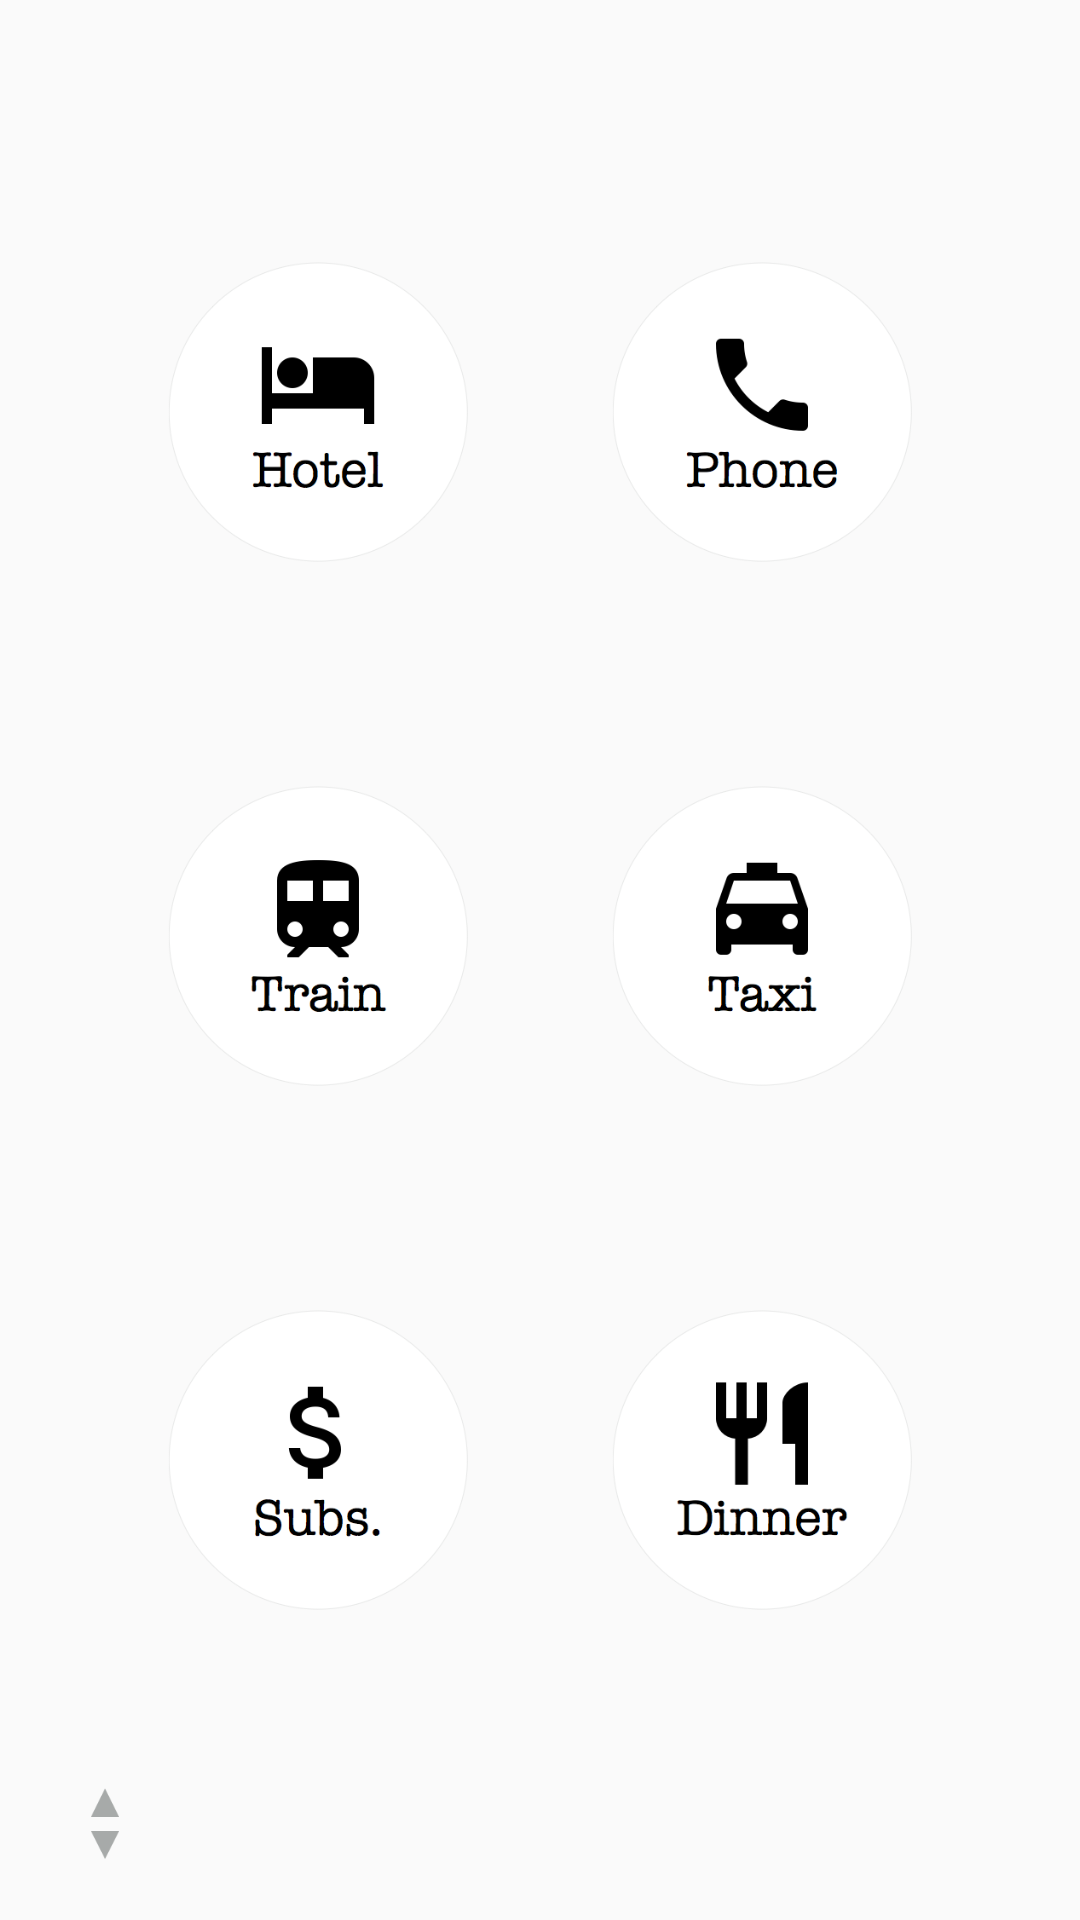

Screen size 1080px×1920px. Icon name, then its center in pixels as (x,y):
arrows: (105,1823)
